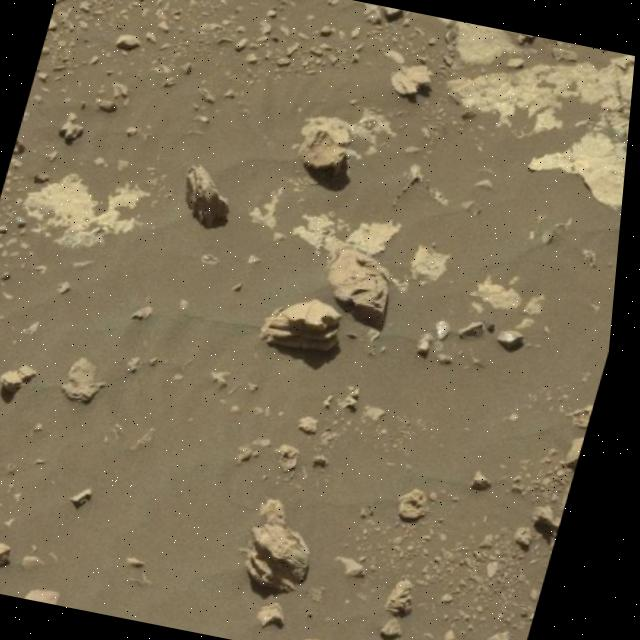mars-rocks: (332, 246, 394, 330), (267, 300, 348, 352), (301, 117, 355, 191)
